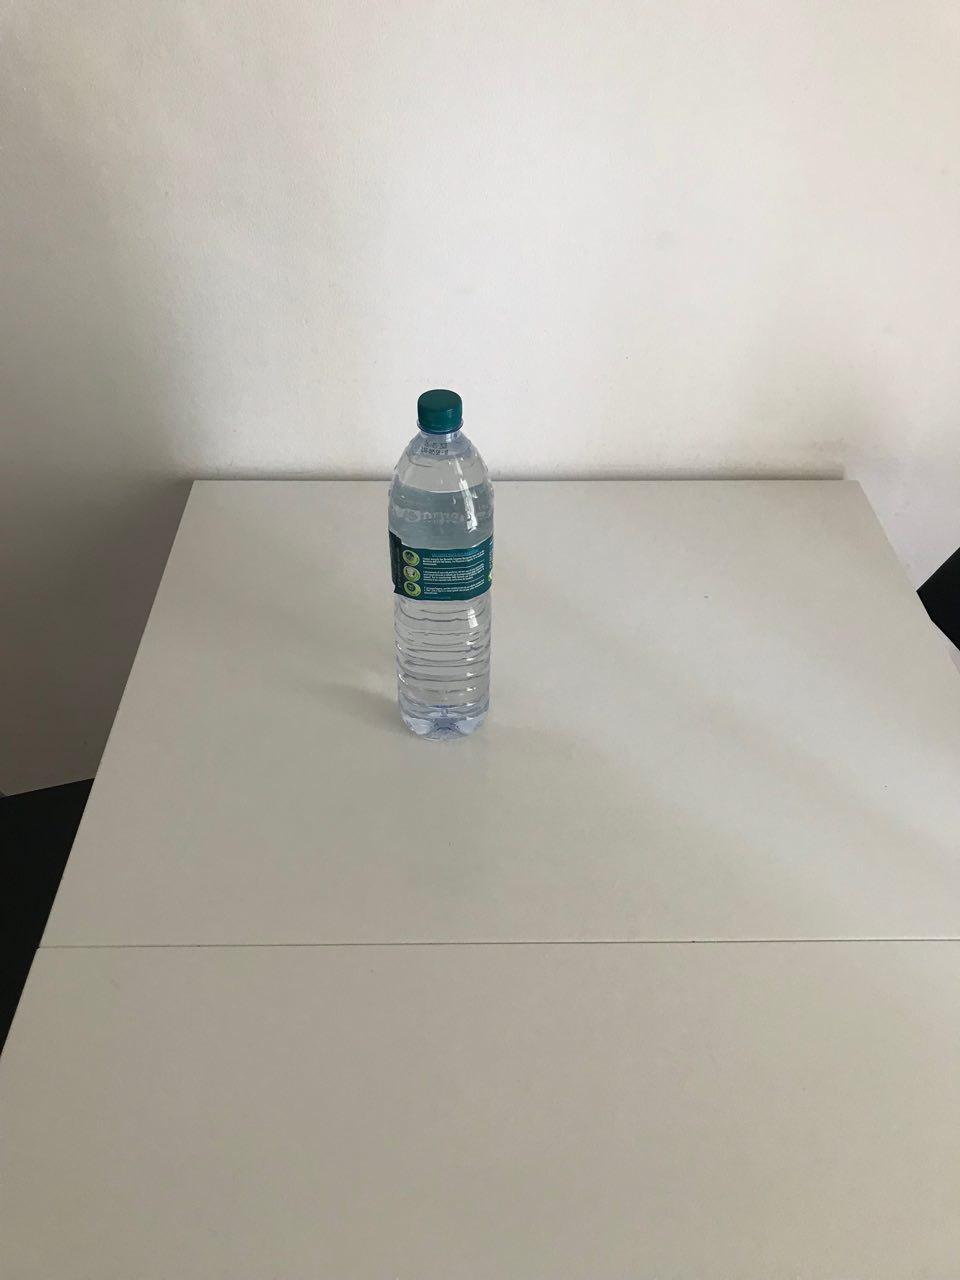san_bernardo: (385, 388, 496, 744)
